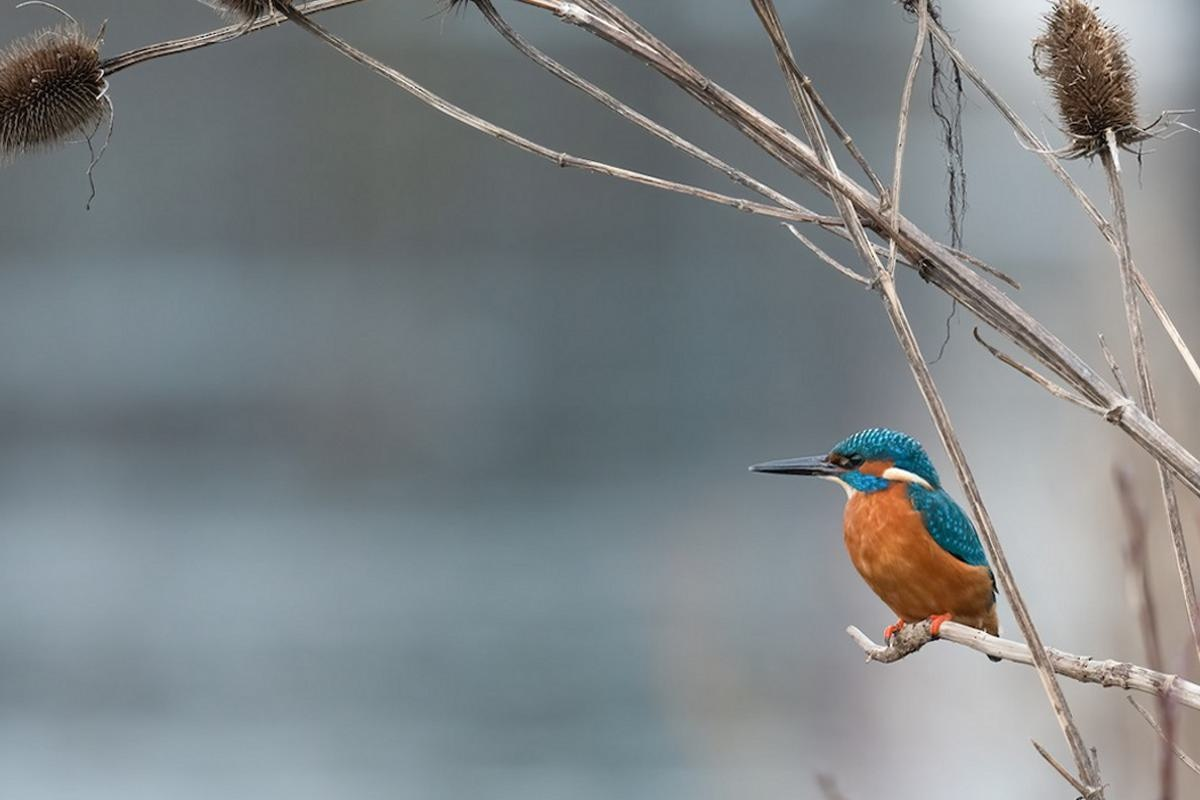kingfisher: (729, 422, 1024, 647)
